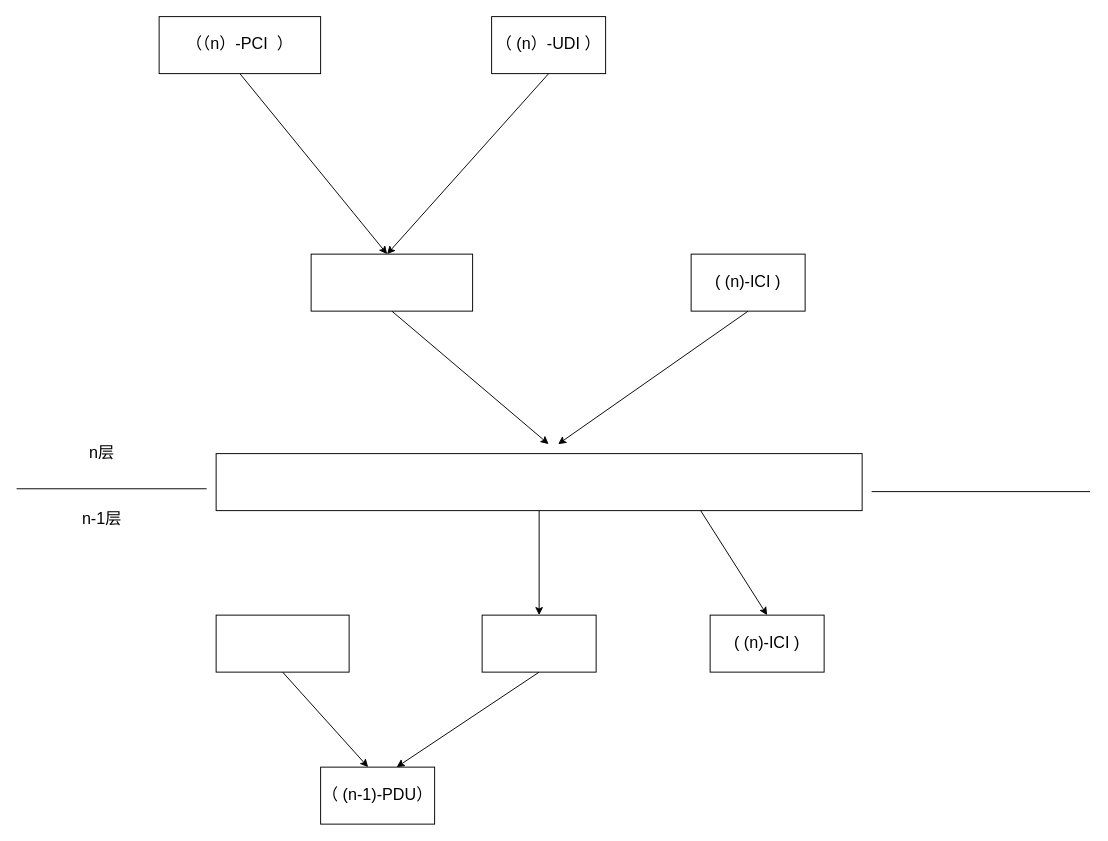
Image size: 1108x841. Some labels were removed from this diagram. Each missing label, with the centre of its shape:
( (n)-PDU ）: point 391,282
( (n)-SDU ) ==( (n-1)-IDU ): point 538,482
( (n-1)-UDI ): point 538,643
((n-1)-PCI ): point 282,643
